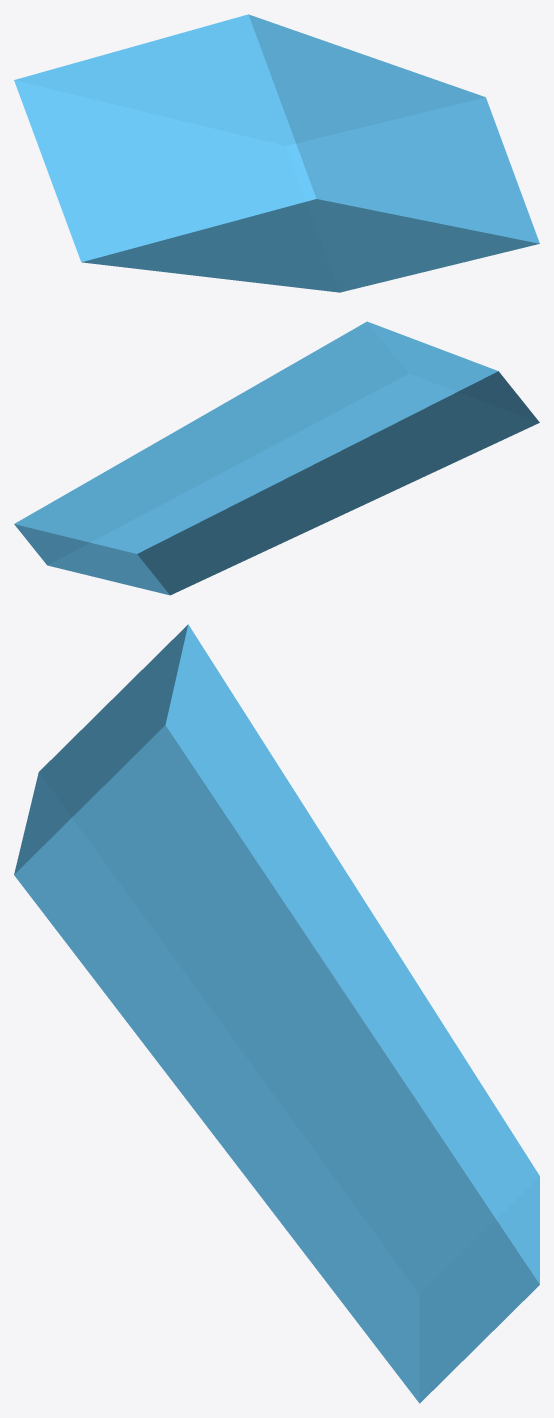
Rendered from Event_421364160_HBrechit_17.fbx.
The picture shows the model from 3 angles, top to bottom: view 1: azimuth 30°, elevation 25°; view 2: azimuth 150°, elevation 25°; view 3: azimuth 270°, elevation 25°; orthographic projection. The views are drawn at different scales.
Visible parts, largest first — view 1: Model; view 2: Model; view 3: Model.
Boxes of the visible parts, x1,y1,x2,y2 form: Model: (14,14,539,292); Model: (14,321,539,595); Model: (14,624,539,1403).
Size of the model in its own units: 1.83 by 1.14 by 1.19.
